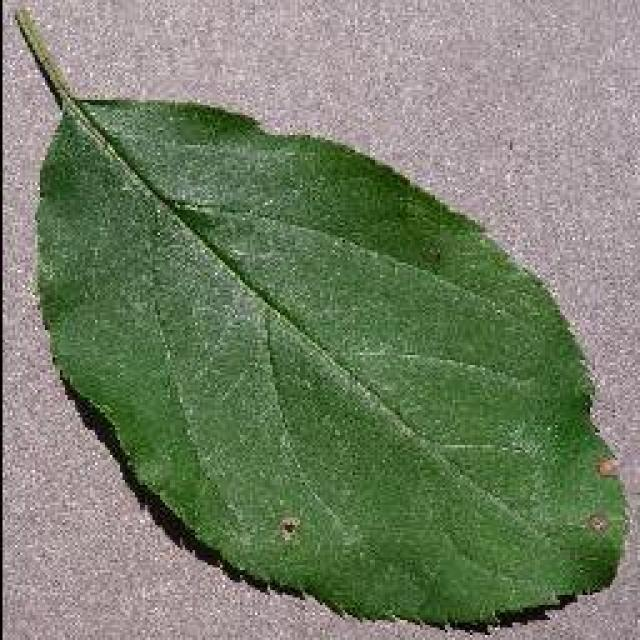Black_rot: (12, 2, 630, 632)
